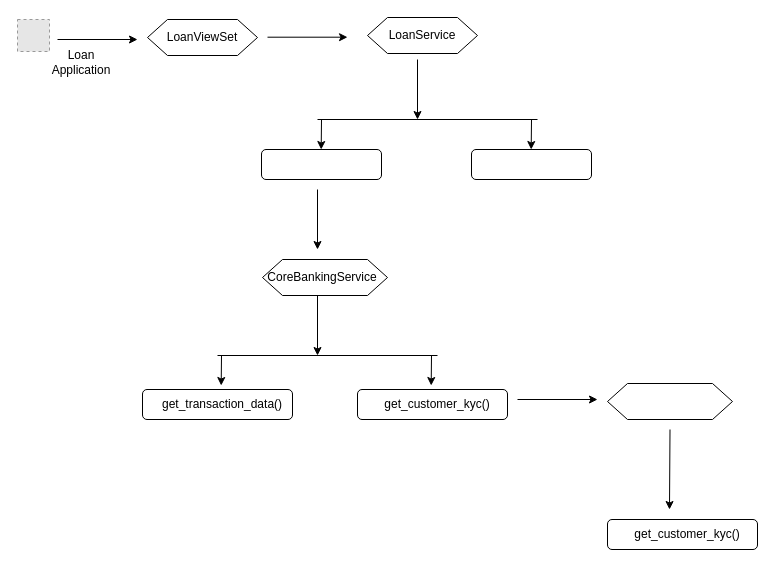
Some shapes in this 775 by 567 pixel diagram are drawn without their labels. Grey dashed boxes stand in for pictures. The centre of each missing label's shape, as x and y in pixels:
CoreBankingAPiClient: the point at 669,401
create_loan(): the point at 321,164
get_loan_status(): the point at 531,164
